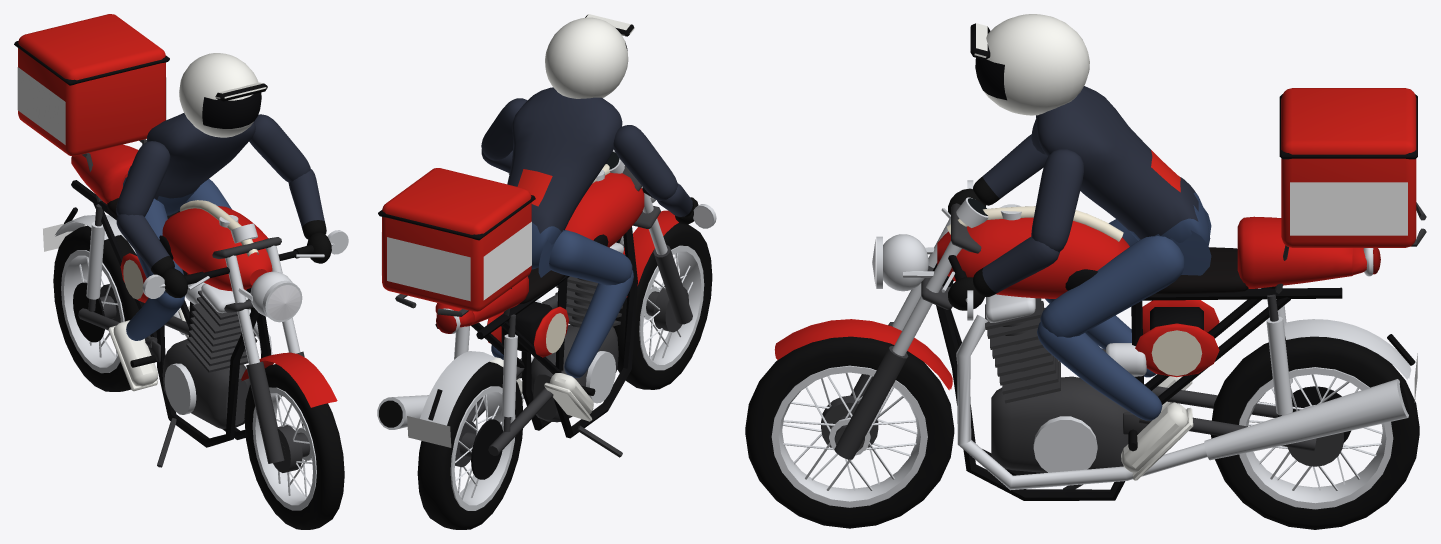
The model's file is bike_cafe.glb.
3 renders of one model, left to right at view 1: azimuth 30°, elevation 25°; view 2: azimuth 150°, elevation 25°; view 3: azimuth 270°, elevation 25°, orthographic. The views are drawn at different scales.
Parts seen in each view (by area): view 1: cafe_body, steer_mesh, wheel_front, wheel_rear, rider_head, rider_body, rider_shin_L, rider_uarm_L, rider_farm_L, rider_uarm_R, rider_farm_R, rider_thigh_L (+1 smaller); view 2: cafe_body, rider_body, wheel_rear, wheel_front, rider_head, rider_shin_L, steer_mesh, rider_thigh_L, rider_uarm_L, rider_uarm_R, rider_farm_L; view 3: cafe_body, wheel_front, wheel_rear, rider_body, steer_mesh, rider_head, rider_thigh_R, rider_shin_R, rider_uarm_R, rider_farm_R, rider_farm_L, rider_shin_L.
Part boxes in pixels (left/top/right/bottom): cafe_body: left=14, top=14, right=272, bottom=467; steer_mesh: left=142, top=223, right=348, bottom=463; wheel_front: left=244, top=364, right=344, bottom=529; wheel_rear: left=53, top=225, right=156, bottom=391; rider_head: left=179, top=53, right=267, bottom=137; rider_body: left=122, top=113, right=255, bottom=215; rider_shin_L: left=108, top=293, right=184, bottom=391; rider_uarm_L: left=116, top=141, right=170, bottom=216; rider_farm_L: left=116, top=214, right=187, bottom=297; rider_uarm_R: left=249, top=114, right=310, bottom=182; rider_farm_R: left=288, top=169, right=331, bottom=263; rider_thigh_L: left=135, top=198, right=183, bottom=293; cafe_body: left=377, top=164, right=644, bottom=457; rider_body: left=507, top=87, right=622, bottom=277; wheel_rear: left=417, top=361, right=522, bottom=529; wheel_front: left=613, top=223, right=712, bottom=389; rider_head: left=545, top=14, right=634, bottom=98; rider_shin_L: left=544, top=270, right=633, bottom=421; steer_mesh: left=508, top=150, right=716, bottom=324; rider_thigh_L: left=549, top=230, right=632, bottom=285; rider_uarm_L: left=613, top=125, right=677, bottom=200; rider_uarm_R: left=481, top=98, right=527, bottom=160; rider_farm_L: left=657, top=183, right=698, bottom=224; cafe_body: left=933, top=88, right=1426, bottom=500; wheel_front: left=745, top=336, right=954, bottom=528; wheel_rear: left=1211, top=336, right=1419, bottom=529; rider_body: left=1036, top=86, right=1211, bottom=275; steer_mesh: left=774, top=180, right=988, bottom=459; rider_head: left=970, top=14, right=1089, bottom=115; rider_thigh_R: left=1040, top=236, right=1184, bottom=337; rider_shin_R: left=1037, top=322, right=1193, bottom=480; rider_uarm_R: left=1031, top=149, right=1083, bottom=251; rider_farm_R: left=948, top=236, right=1059, bottom=310; rider_farm_L: left=948, top=134, right=1047, bottom=214; rider_shin_L: left=1045, top=298, right=1192, bottom=411.
Size of the model in its own units: 0.86 by 1.66 by 2.02.
